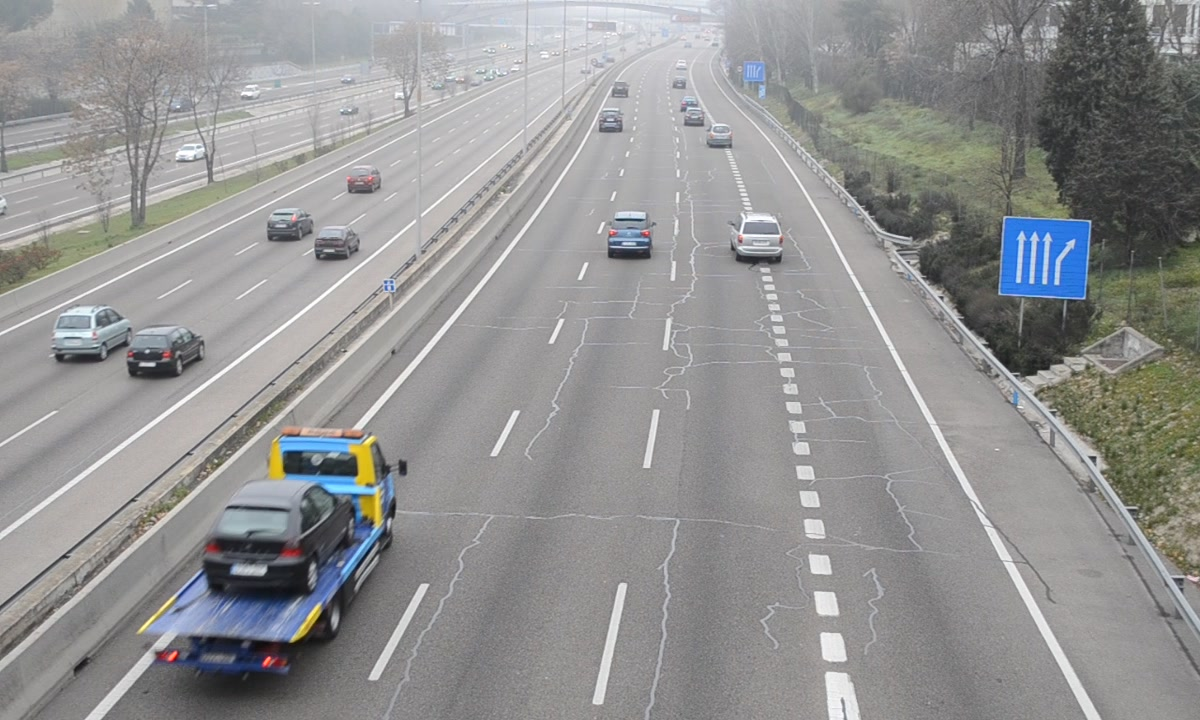car: (731, 211, 782, 259), (606, 211, 653, 255), (706, 122, 734, 149), (597, 108, 622, 131)
small-truck: (132, 425, 397, 671)
